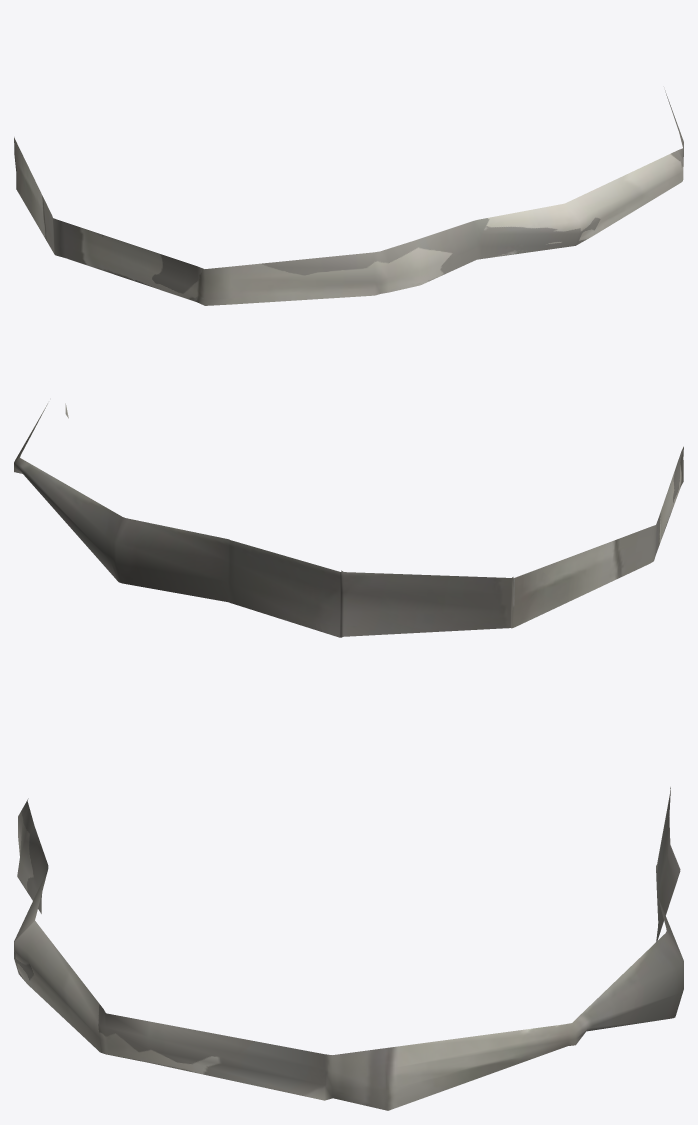
The picture shows the model from 3 angles, top to bottom: view 1: azimuth 30°, elevation 25°; view 2: azimuth 150°, elevation 25°; view 3: azimuth 270°, elevation 25°; orthographic projection. The views are drawn at different scales.
Parts seen in each view (by area): view 1: geometry_0; view 2: geometry_0; view 3: geometry_0.
Boxes of the visible parts, bbox=[...] form: geometry_0: bbox=[14, 90, 683, 305]; geometry_0: bbox=[14, 403, 683, 637]; geometry_0: bbox=[14, 787, 683, 1110].
Bounding box in the file's own units: 0.3789 × 0.04 × 0.2757.
Materials: 1 (1 with a texture image).
